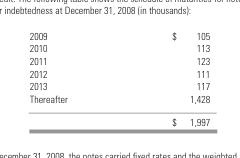table: (28, 29, 209, 126)
table column: (28, 29, 119, 126), (119, 29, 209, 126)
table row: (28, 91, 209, 109), (28, 109, 209, 126), (28, 53, 209, 66), (28, 66, 209, 79), (28, 29, 209, 41), (28, 41, 209, 53), (28, 79, 209, 91)
